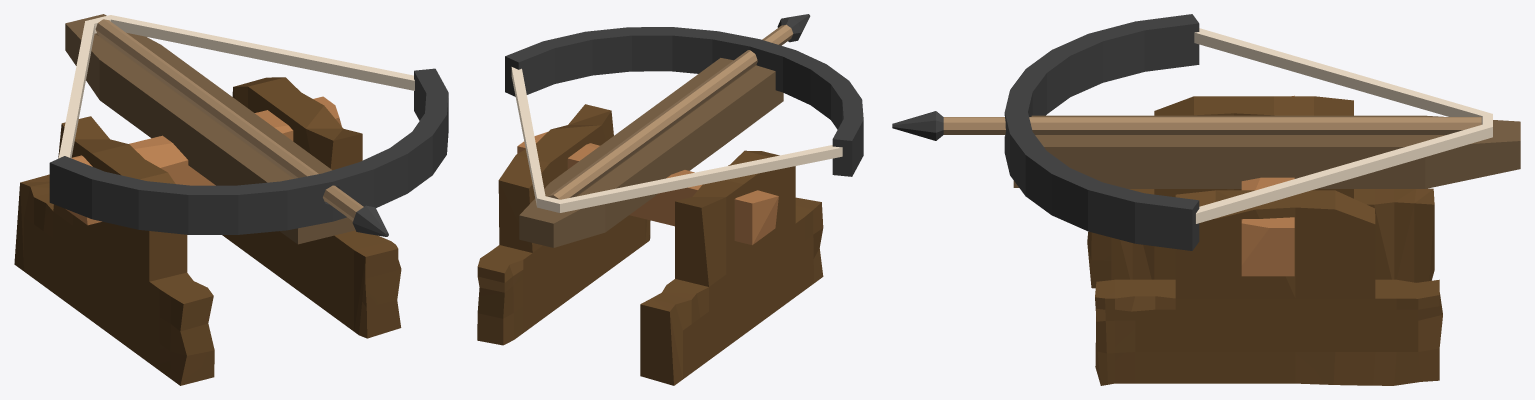
The model's file is Tower_Defense_Ballista.glb.
The picture shows the model from 3 angles, left to right: view 1: azimuth 30°, elevation 25°; view 2: azimuth 150°, elevation 25°; view 3: azimuth 270°, elevation 25°; orthographic projection. The views are drawn at different scales.
Parts seen in each view (by area): view 1: Cannon_Weap.001, BezierCurve, Ballista_Body, Plane, Arrow; view 2: Cannon_Weap.001, BezierCurve, Ballista_Body, Plane, Arrow; view 3: Cannon_Weap.001, Ballista_Body, BezierCurve, Arrow, Plane.
Part boxes in pixels (box(x1,y1,x2,y2)): Cannon_Weap.001: box(14, 77, 401, 385); BezierCurve: box(49, 68, 448, 234); Ballista_Body: box(65, 14, 355, 244); Plane: box(58, 15, 414, 158); Arrow: box(95, 19, 388, 236); Cannon_Weap.001: box(477, 104, 823, 385); BezierCurve: box(505, 27, 863, 176); Ballista_Body: box(519, 58, 783, 247); Plane: box(511, 67, 842, 212); Arrow: box(548, 14, 810, 199); Cannon_Weap.001: box(1087, 95, 1442, 385); Ballista_Body: box(1013, 115, 1520, 188); BezierCurve: box(1004, 14, 1199, 250); Arrow: box(892, 111, 1481, 140); Plane: box(1194, 28, 1492, 223).
Bounding box in the file's own units: 2 × 1.03 × 2.72.
Materials: 5 (1 with a texture image).
